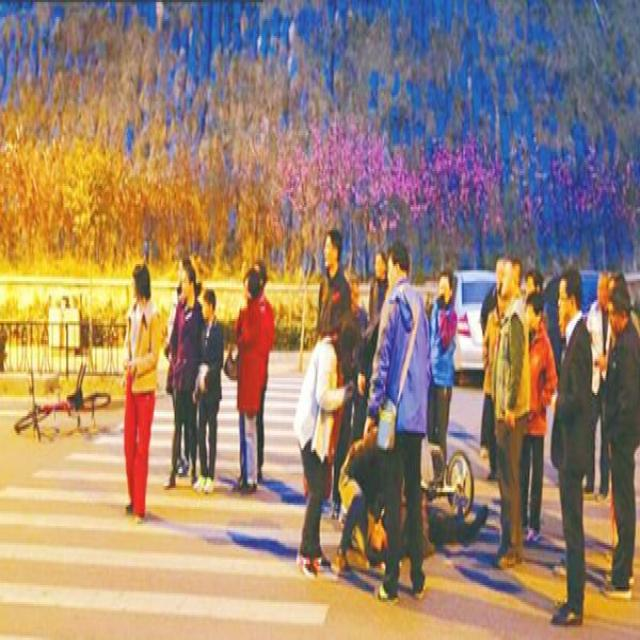10-: (109, 203, 639, 625)
down: (332, 452, 492, 579)
